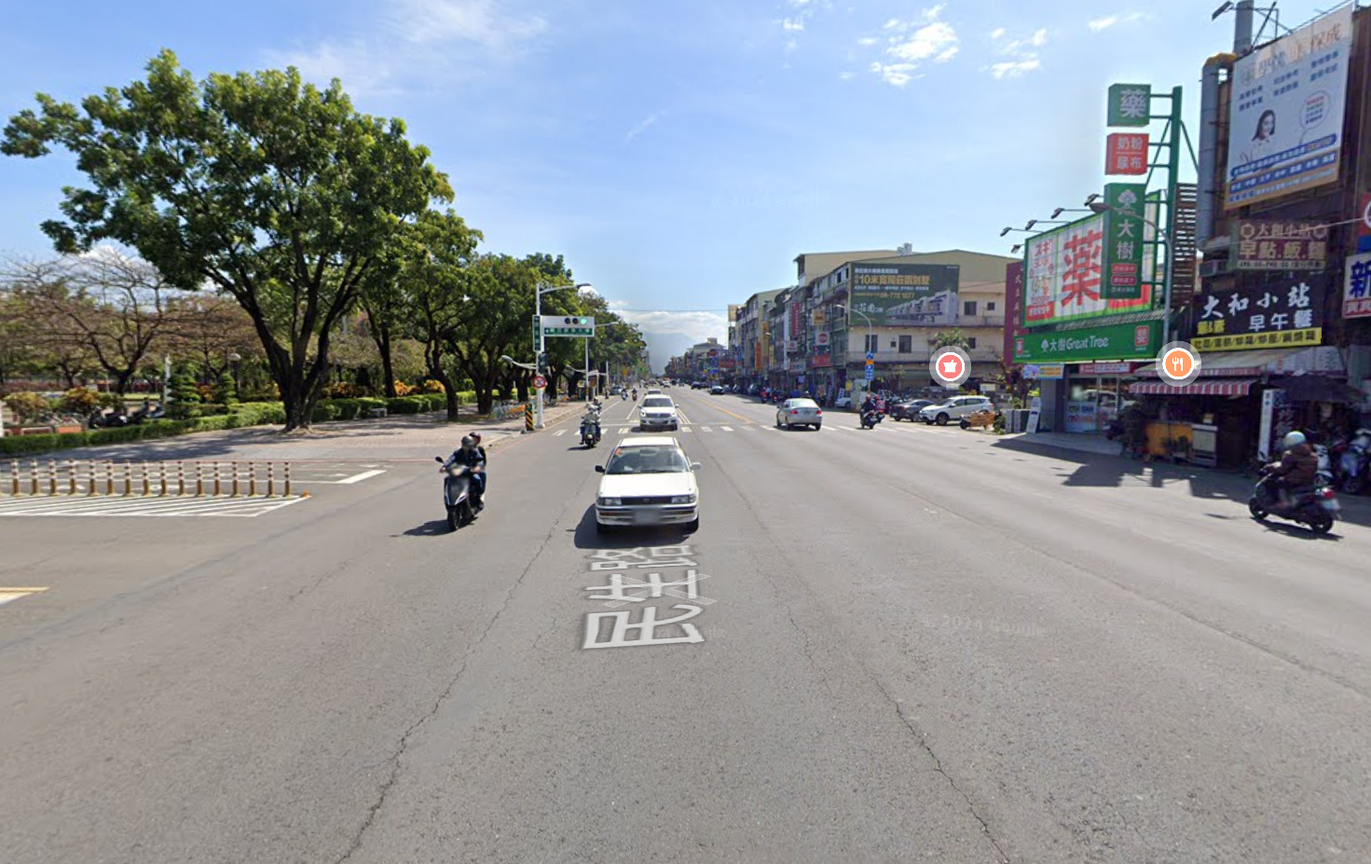green: (559, 311, 589, 328)
